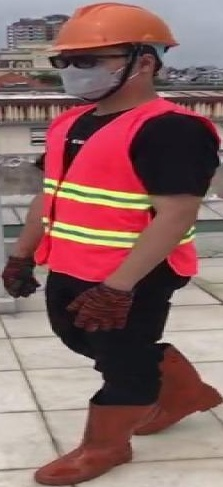boots: (33, 398, 158, 486), (132, 343, 222, 436)
gloves: (65, 282, 134, 333), (1, 255, 41, 297)
hard-hat: (44, 2, 179, 57)
mask: (54, 59, 133, 101)
vest: (24, 85, 215, 270)
